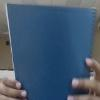notebook: (4, 2, 97, 99)
